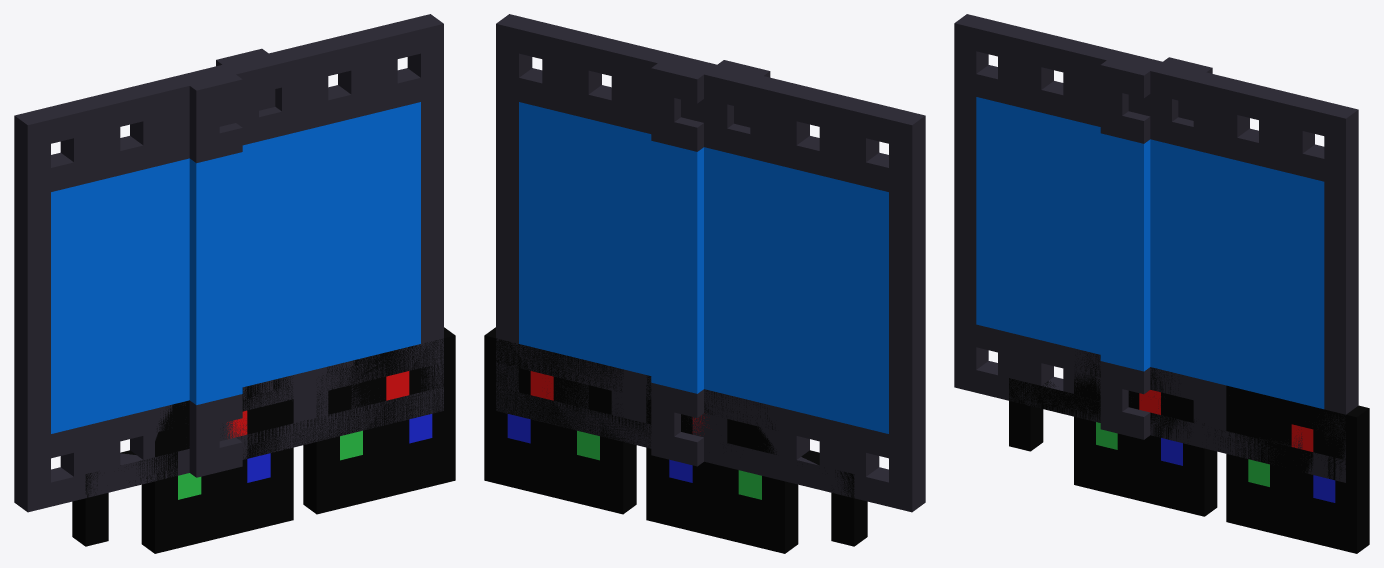
Rendered from filmstrip.glb.
The picture shows the model from 3 angles, left to right: view 1: azimuth 30°, elevation 25°; view 2: azimuth 150°, elevation 25°; view 3: azimuth 330°, elevation 25°; orthographic projection. The views are drawn at different scales.
Visible parts, largest first — view 1: filmStrip, monture, left, glass (1), right; view 2: filmStrip, monture, right, glass (1), left; view 3: filmStrip, glass (1), left, monture, right.
Part boxes in pixels (x1=…): filmStrip: x1=14, y1=14, x2=443, y2=512; monture: x1=72, y1=327, x2=455, y2=553; left: x1=184, y1=69, x2=242, y2=477; glass (1): x1=155, y1=335, x2=455, y2=529; right: x1=216, y1=48, x2=275, y2=110; filmStrip: x1=496, y1=14, x2=925, y2=512; monture: x1=484, y1=327, x2=867, y2=553; right: x1=651, y1=61, x2=705, y2=466; glass (1): x1=484, y1=336, x2=802, y2=529; left: x1=711, y1=60, x2=770, y2=127; filmStrip: x1=954, y1=14, x2=1358, y2=482; glass (1): x1=1030, y1=353, x2=1356, y2=525; left: x1=1100, y1=56, x2=1156, y2=439; monture: x1=1009, y1=351, x2=1369, y2=553; right: x1=1157, y1=57, x2=1212, y2=120.
Size of the model in its own units: 18.5 by 19 by 2.
Materials: 8 (8 with a texture image).
